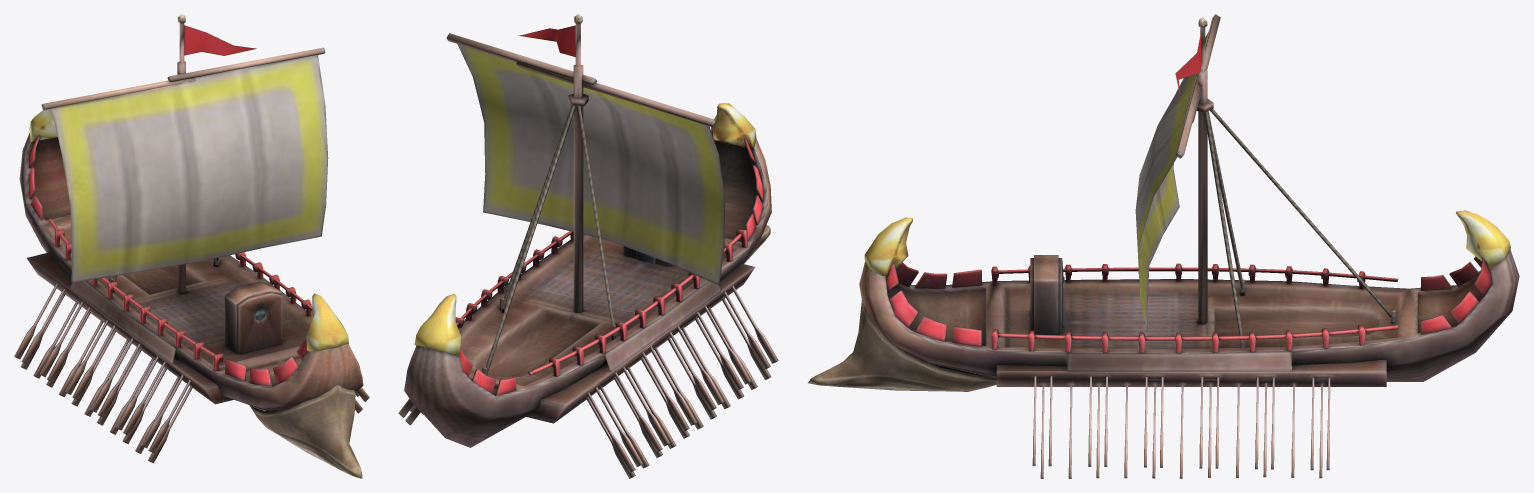
Rendered from Trireme.glb.
The picture shows the model from 3 angles, left to right: view 1: azimuth 30°, elevation 25°; view 2: azimuth 150°, elevation 25°; view 3: azimuth 270°, elevation 25°; orthographic projection. The views are drawn at different scales.
Visible parts, largest first — view 1: low; view 2: low; view 3: low.
Part boxes in pixels (x1,y1,x2,y2): low: (14,14,369,478); low: (398,14,778,478); low: (808,14,1519,478).
Size of the model in its own units: 4.96 by 6.64 by 10.53.
1 material, 1 textured.
